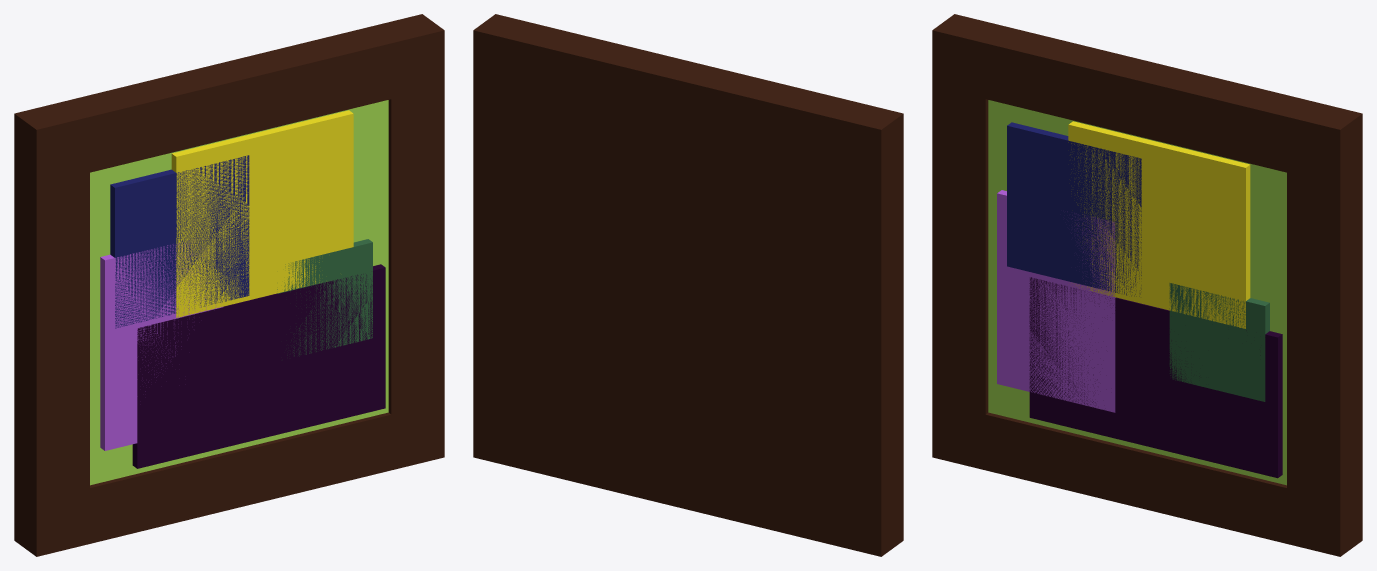
Rendered from Pintura_Quadrats.fbx.
3 views of the same model, side by side, from view 1: azimuth 30°, elevation 25°; view 2: azimuth 150°, elevation 25°; view 3: azimuth 330°, elevation 25° (orthographic).
Parts seen in each view (by area): view 1: Marc, Quadrat.003, Quadrat.004, Quadrat, Base, Quadrat.001, Quadrat.002; view 2: Marc; view 3: Marc, Quadrat.004, Quadrat.003, Quadrat, Quadrat.001, Base, Quadrat.002.
Boxes of the visible parts, x1=… form: Marc: x1=14, y1=14, x2=444, y2=556; Quadrat.003: x1=132, y1=264, x2=385, y2=468; Quadrat.004: x1=171, y1=110, x2=353, y2=317; Quadrat: x1=110, y1=155, x2=249, y2=328; Base: x1=90, y1=100, x2=388, y2=485; Quadrat.001: x1=100, y1=242, x2=222, y2=450; Quadrat.002: x1=277, y1=239, x2=372, y2=356; Marc: x1=473, y1=14, x2=903, y2=556; Marc: x1=932, y1=14, x2=1362, y2=556; Quadrat.004: x1=1068, y1=121, x2=1250, y2=328; Quadrat.003: x1=1029, y1=277, x2=1282, y2=478; Quadrat: x1=1007, y1=122, x2=1141, y2=296; Quadrat.001: x1=997, y1=190, x2=1115, y2=412; Base: x1=988, y1=100, x2=1286, y2=485; Quadrat.002: x1=1169, y1=283, x2=1269, y2=401.
Bounding box in the file's own units: 271 × 271 × 27.67.
